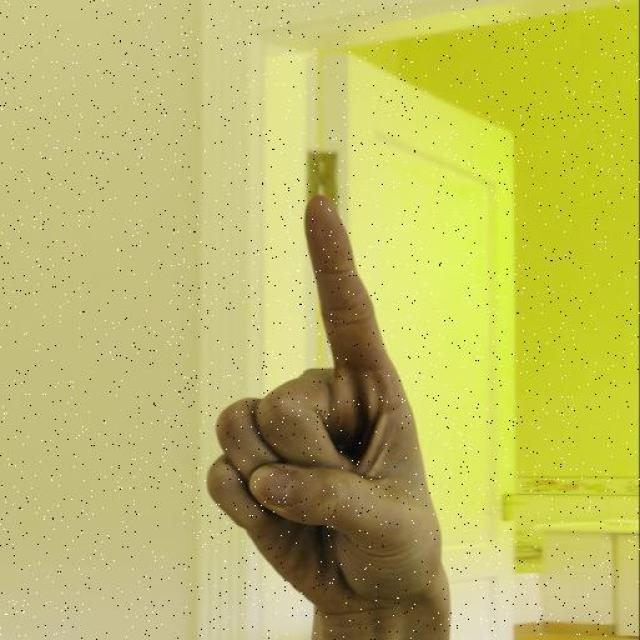Z: (193, 178, 468, 620)
